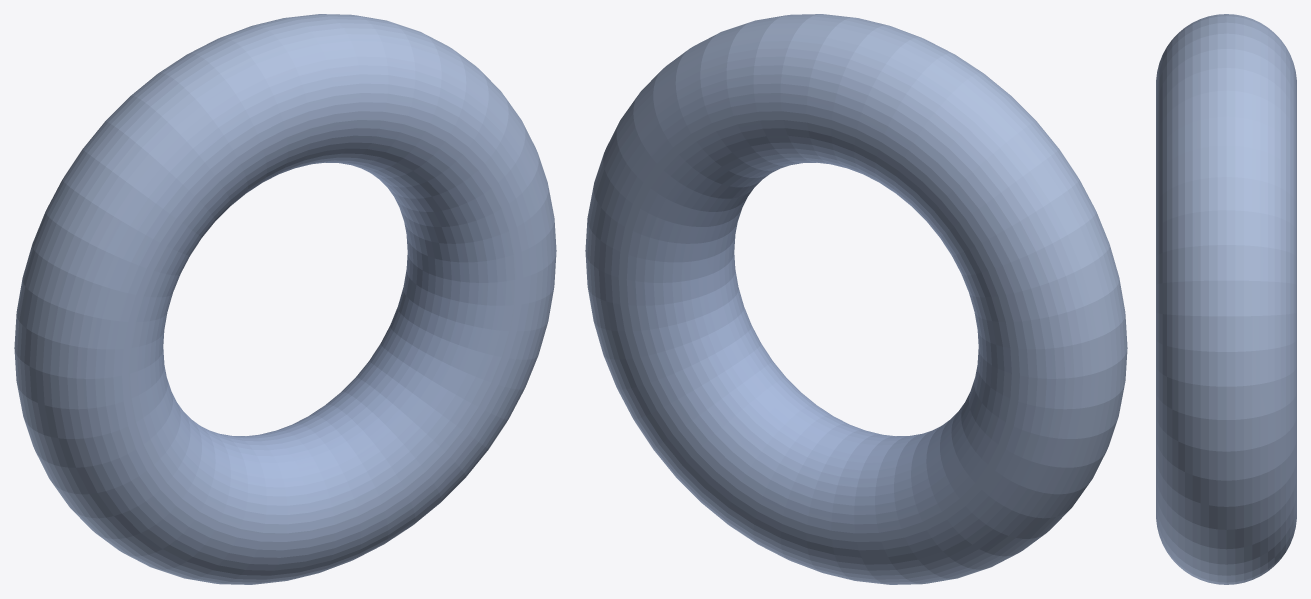
The picture shows the model from 3 angles, left to right: view 1: azimuth 30°, elevation 25°; view 2: azimuth 150°, elevation 25°; view 3: azimuth 270°, elevation 25°; orthographic projection. The views are drawn at different scales.
Parts seen in each view (by area): view 1: world; view 2: world; view 3: world.
Part boxes in pixels (x1,y1,x2,y2): world: [14, 14, 556, 584]; world: [585, 14, 1127, 584]; world: [1156, 14, 1296, 584].
Size of the model in its own units: 22.13 by 22.09 by 5.46.
